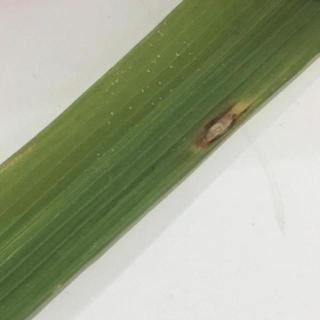Blast: (196, 107, 232, 151)
